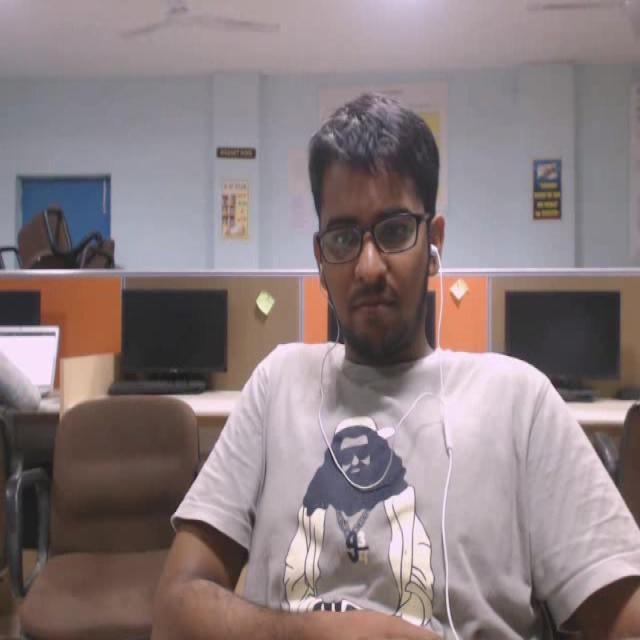Engaged: (280, 81, 469, 374)
